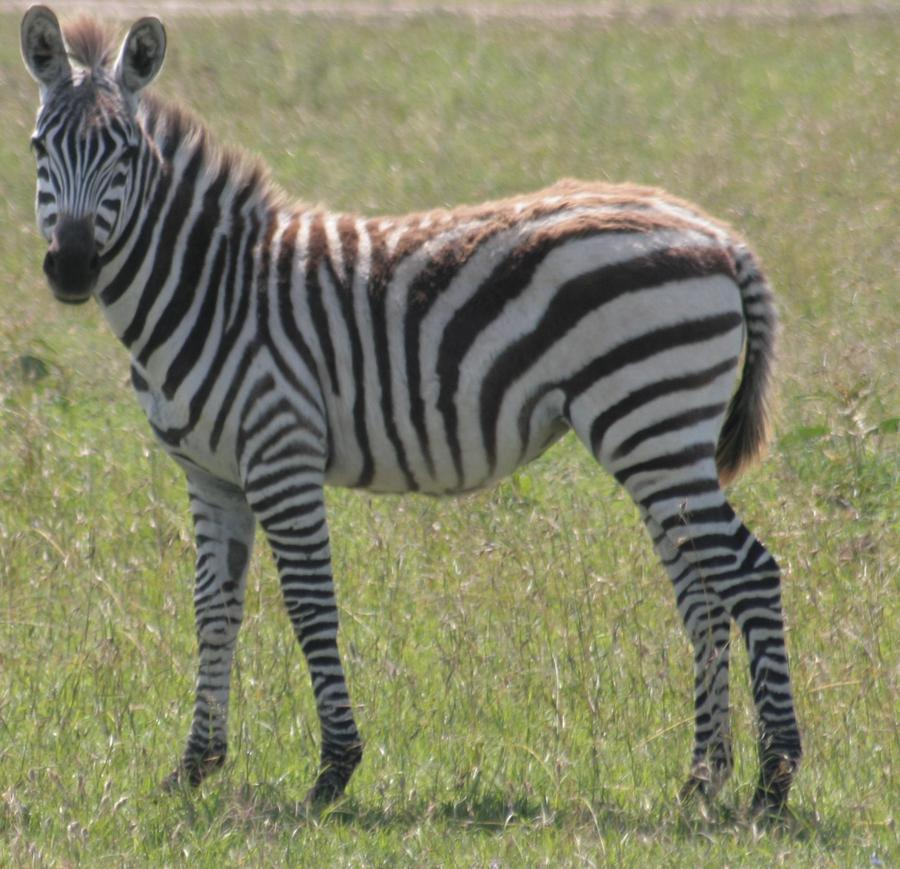zebra_plains: (142, 164, 772, 494)
